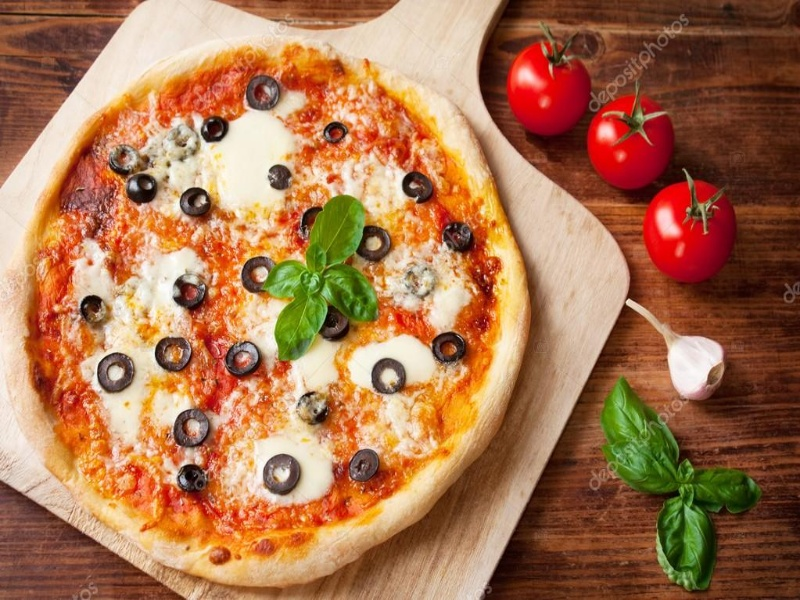olive noir: (87, 353, 146, 394), (169, 272, 213, 317), (426, 329, 476, 367), (260, 456, 302, 498), (75, 291, 116, 334), (235, 254, 280, 293), (222, 336, 262, 379), (368, 358, 411, 398), (437, 220, 481, 258), (177, 185, 218, 224), (397, 166, 438, 204), (241, 75, 283, 112), (171, 410, 211, 448), (359, 220, 392, 265), (343, 445, 381, 484), (293, 392, 337, 425), (153, 336, 193, 372), (121, 174, 162, 208), (171, 465, 209, 498), (260, 164, 300, 194), (200, 112, 232, 146), (323, 121, 347, 146)
